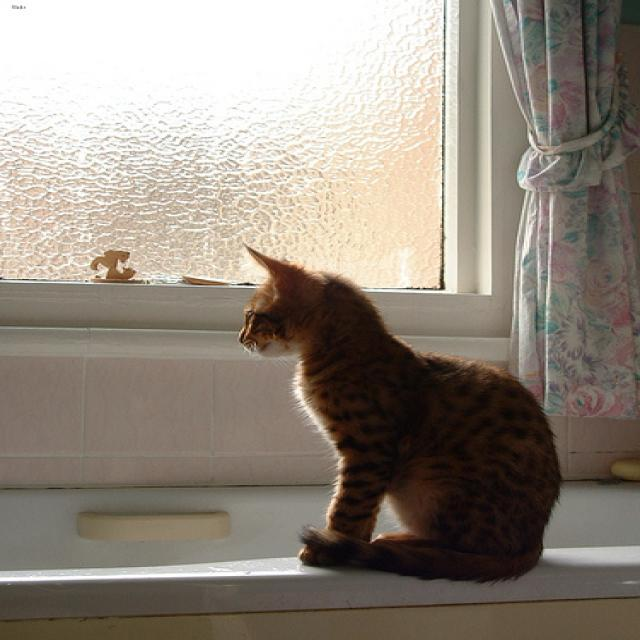Bengal: (234, 245, 382, 371)
